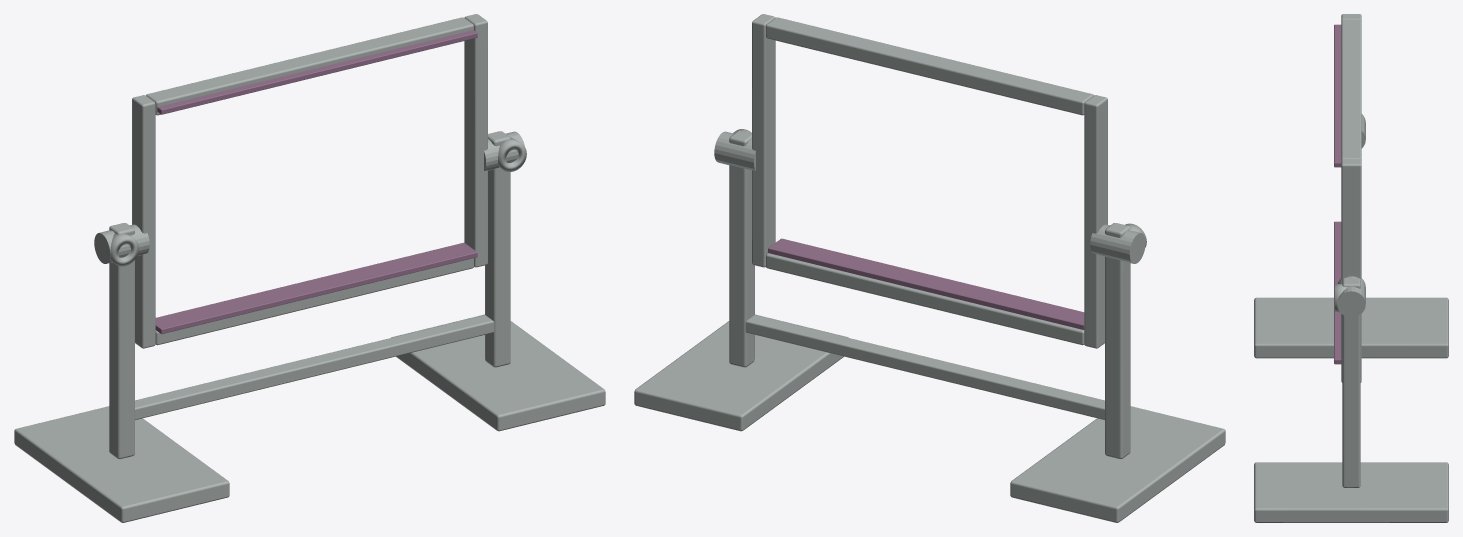
The model's file is museum-conservation-and-art-restoration-museum-conserv-13cb39c2__31883.glb.
The picture shows the model from 3 angles, left to right: view 1: azimuth 30°, elevation 25°; view 2: azimuth 150°, elevation 25°; view 3: azimuth 270°, elevation 25°; orthographic projection. The views are drawn at different scales.
Visible parts, largest first — view 1: museum-conservation-and-art-restoration-painting-turnover-cr (×2); view 2: museum-conservation-and-art-restoration-painting-turnover-cr (×2); view 3: museum-conservation-and-art-restoration-painting-turnover-cr (×2).
Boxes of the visible parts, x1,y1,x2,y2 form: museum-conservation-and-art-restoration-painting-turnover-cr (×2): [14, 14, 605, 522]; museum-conservation-and-art-restoration-painting-turnover-cr (×2): [634, 14, 1225, 522]; museum-conservation-and-art-restoration-painting-turnover-cr (×2): [1254, 14, 1448, 522].
Bounding box in the file's own units: 2.45 × 1.77 × 0.95.
